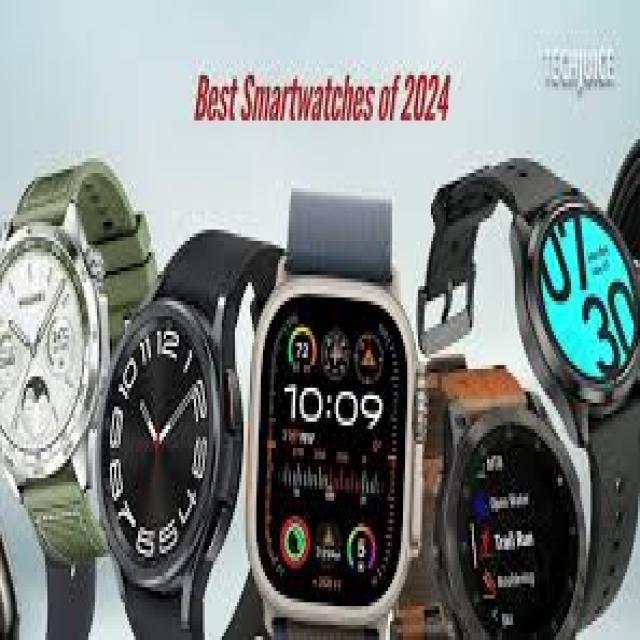objects: (99, 233, 280, 636), (0, 162, 155, 565), (248, 279, 422, 636), (435, 369, 584, 636), (459, 154, 481, 166)
